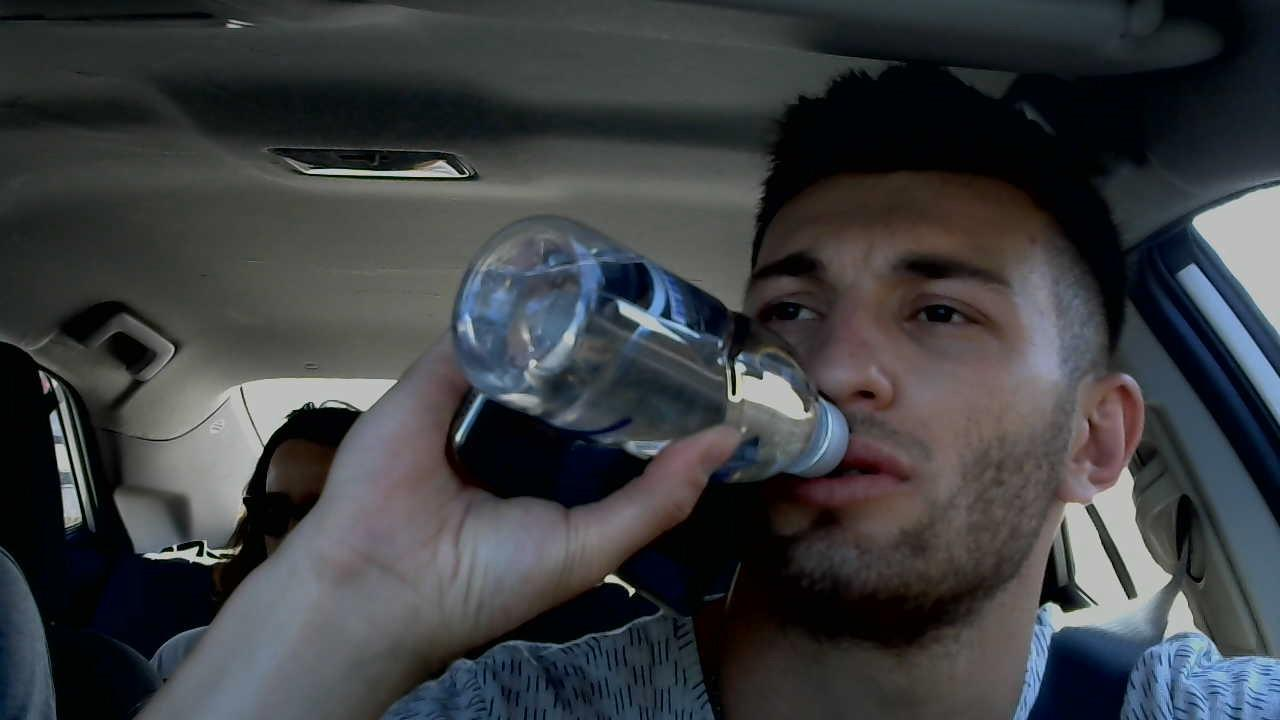Drinking: (450, 174, 1140, 610)
